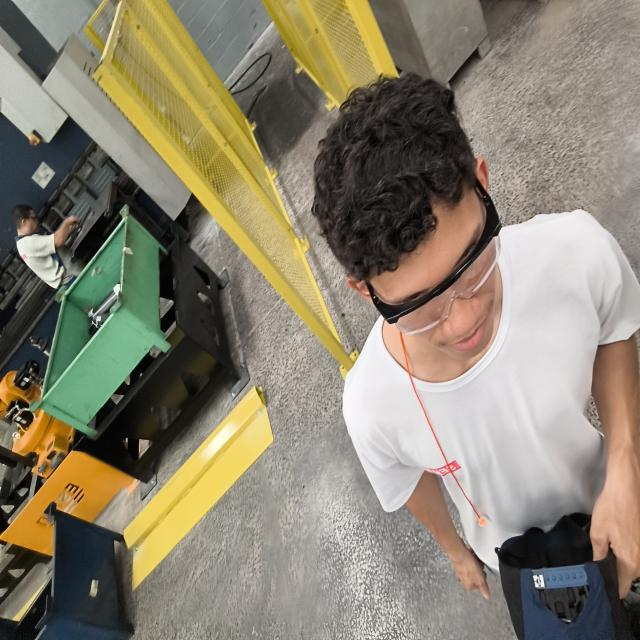oculos-epi: (367, 183, 501, 335)
